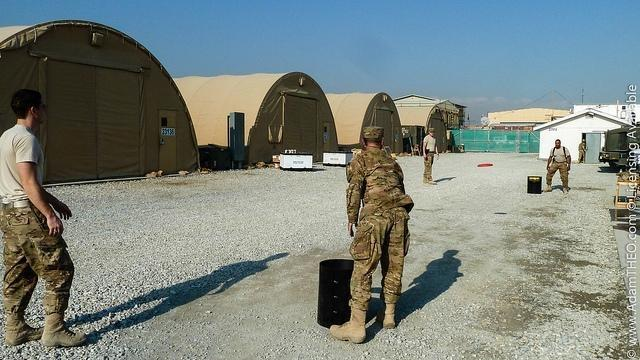truck: (599, 126, 640, 168)
